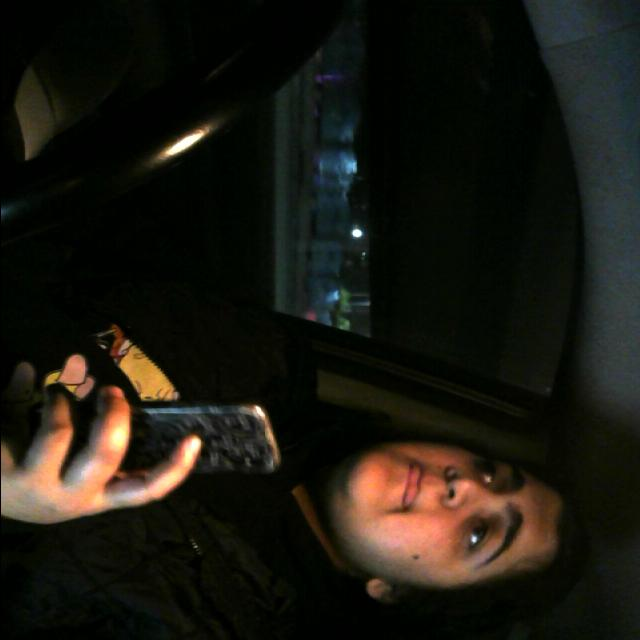mobile use: (23, 395, 297, 481)
